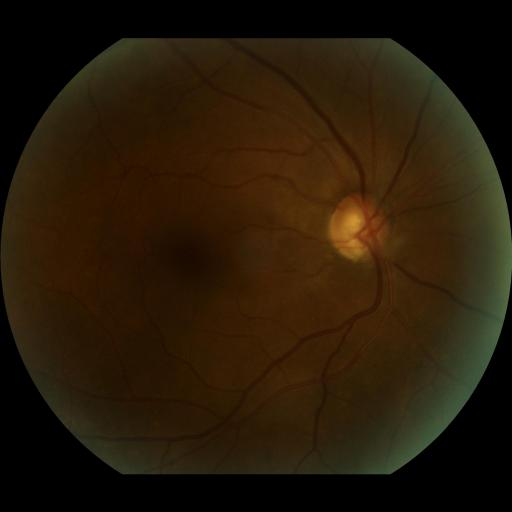Optic Cup: (340, 209, 369, 249)
Optic Disc: (330, 193, 388, 264)
